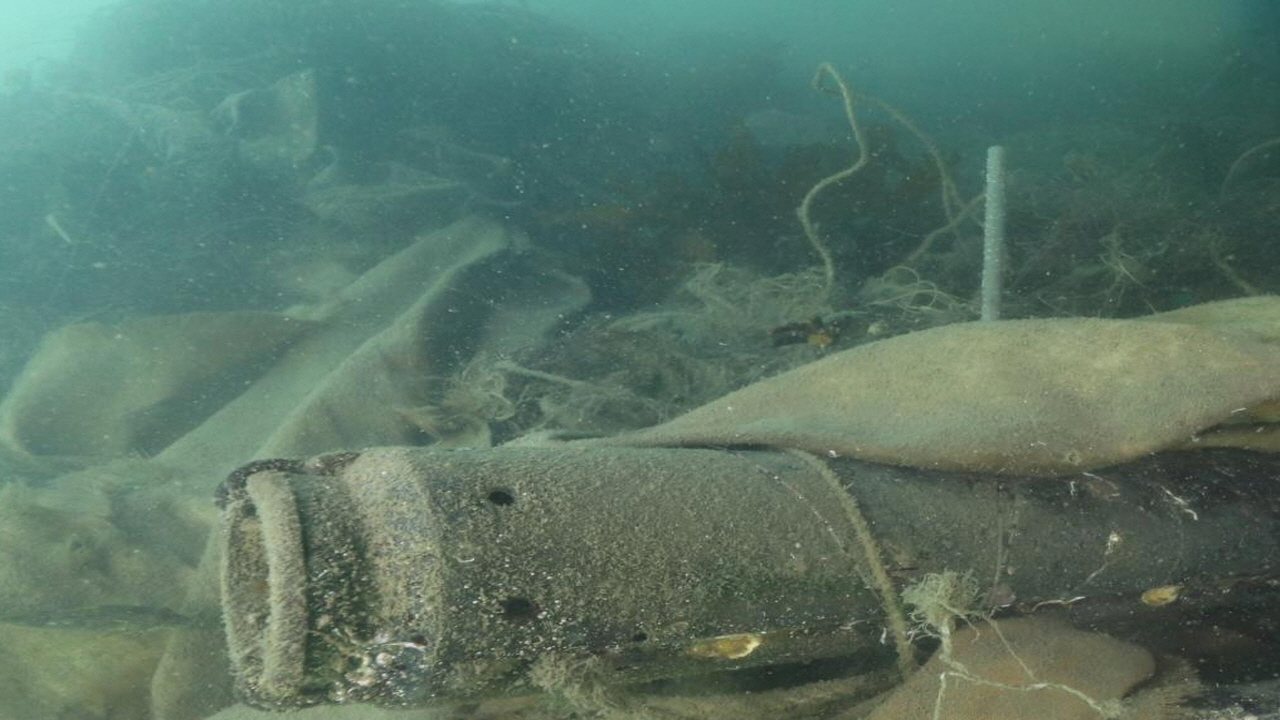bundle of ropes: (798, 61, 987, 289)
eel fish trap: (215, 445, 1280, 708)
rope: (791, 446, 917, 671)
